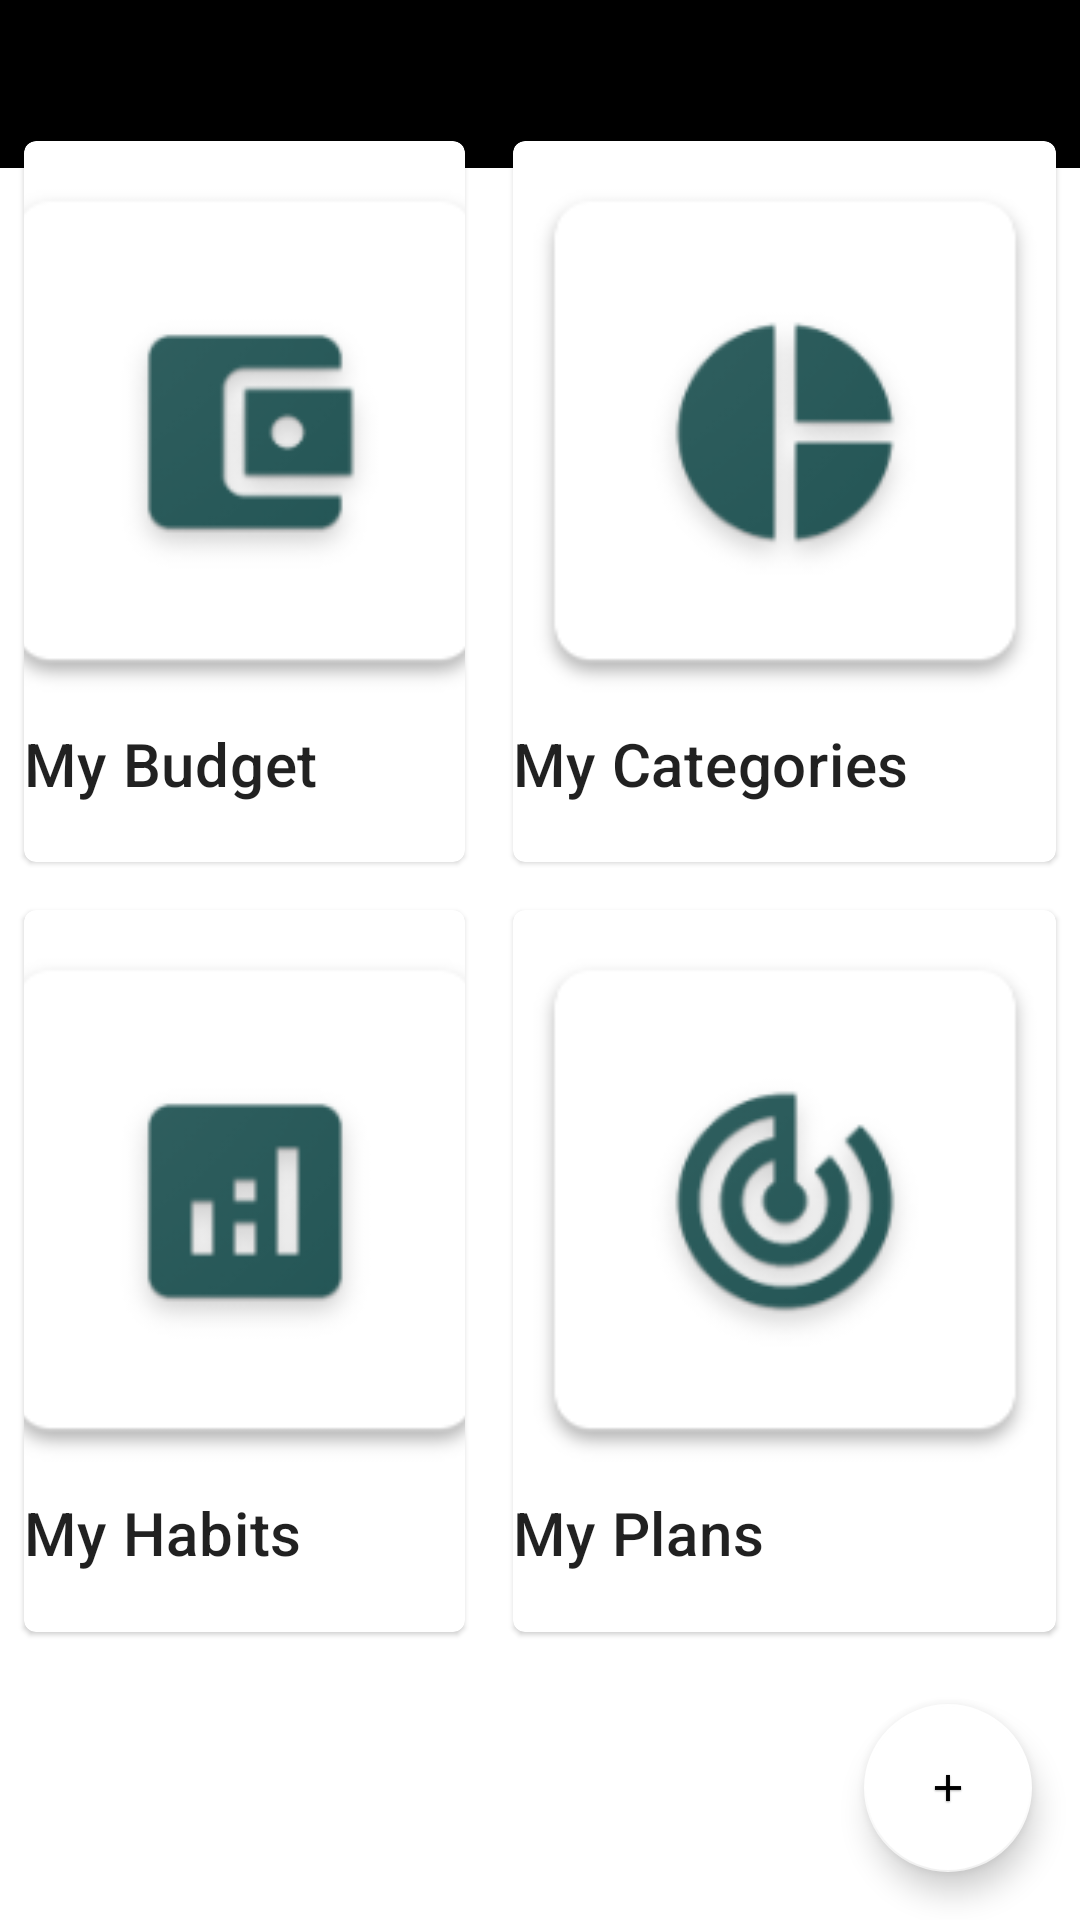

Icon click points for this 1080×1920 phone screenshot, format (x=x, y=y):
Add Transactions: (x=950, y=1823)
